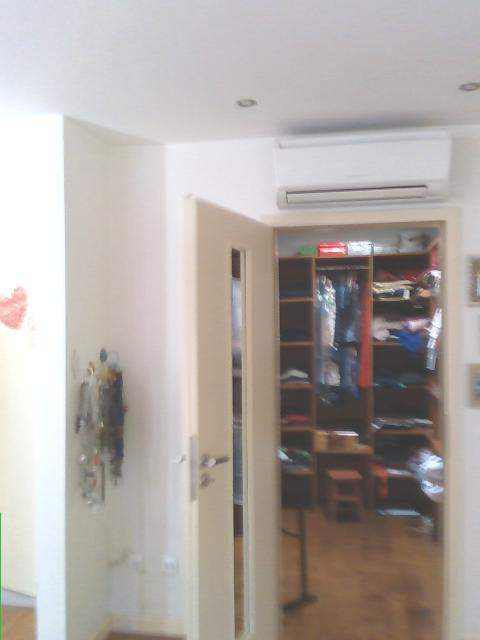open_door: (250, 204, 463, 626)
